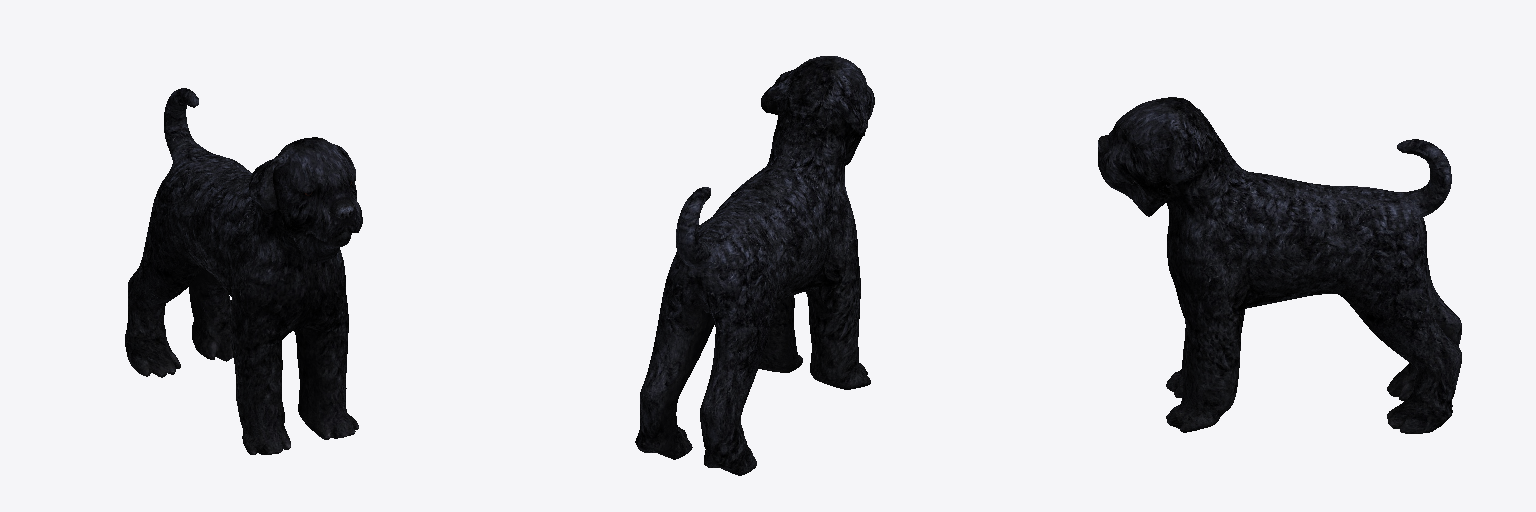
The picture shows the model from 3 angles: view 1: azimuth 30°, elevation 25°; view 2: azimuth 150°, elevation 25°; view 3: azimuth 270°, elevation 25°; orthographic projection.
Visible parts, largest first — view 1: pasted__Black_Russian_Terrier group1; view 2: pasted__Black_Russian_Terrier group1; view 3: pasted__Black_Russian_Terrier group1.
Boxes of the visible parts, x1=… form: pasted__Black_Russian_Terrier group1: x1=125, y1=88, x2=362, y2=454; pasted__Black_Russian_Terrier group1: x1=635, y1=56, x2=874, y2=475; pasted__Black_Russian_Terrier group1: x1=1098, y1=97, x2=1461, y2=433.
Size of the model in its own units: 0.1057 by 0.2838 by 0.3039.
Materials: 1 (1 with a texture image).